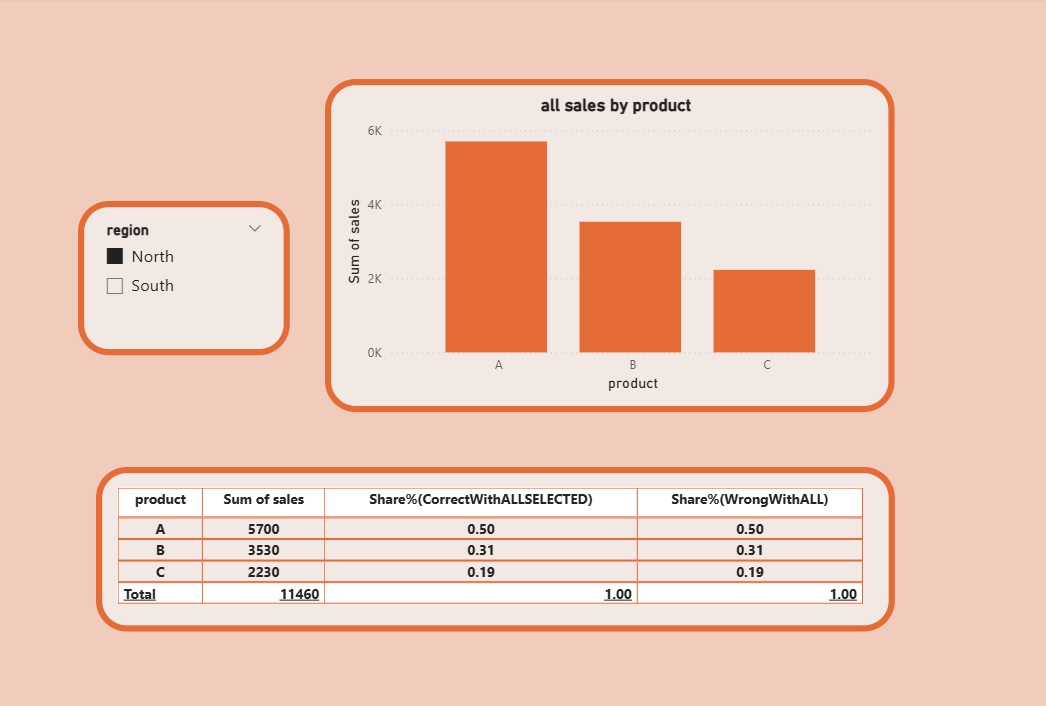

The page's visual inventory and layout, read from the dashboard file:
{"tool":"powerbi","page":{"name":"Page 1","canvas":[1280,720],"ordinal":0},"visuals":[{"type":"clusteredColumnChart","title":"all sales by product","fields":{"Category":["Sales_sample.product"],"Y":["Sum(Sales_sample.sales)"]},"box":[514.5,79.8,554.4,323.9],"z":0},{"type":"slicer","fields":{"Values":["Sales_sample.region"]},"box":[274.3,198.4,206.2,149.8],"z":1000},{"type":"tableEx","fields":{"Values":["Sales_sample.product","Sum(Sales_sample.sales)","_Measures.Share%(CorrectWithALLSELECTED)","_Measures.Share%(WrongWithALL)"]},"box":[291.8,457.1,777.1,159.5],"z":2000}]}

Visuals, with their boxes on the page's 1280x720 design canvas (x1, y1, x2, y2). These are canvas units, not pixel positions in the 1046x706 screenshot, which may show the page scaled, cropped or inside an application window:
"all sales by product" clusteredColumnChart: rect(514, 80, 1069, 404)
slicer - Sales_sample.region: rect(274, 198, 480, 348)
tableEx - Sales_sample.product x Sum(Sales_sample.sales): rect(292, 457, 1069, 617)
